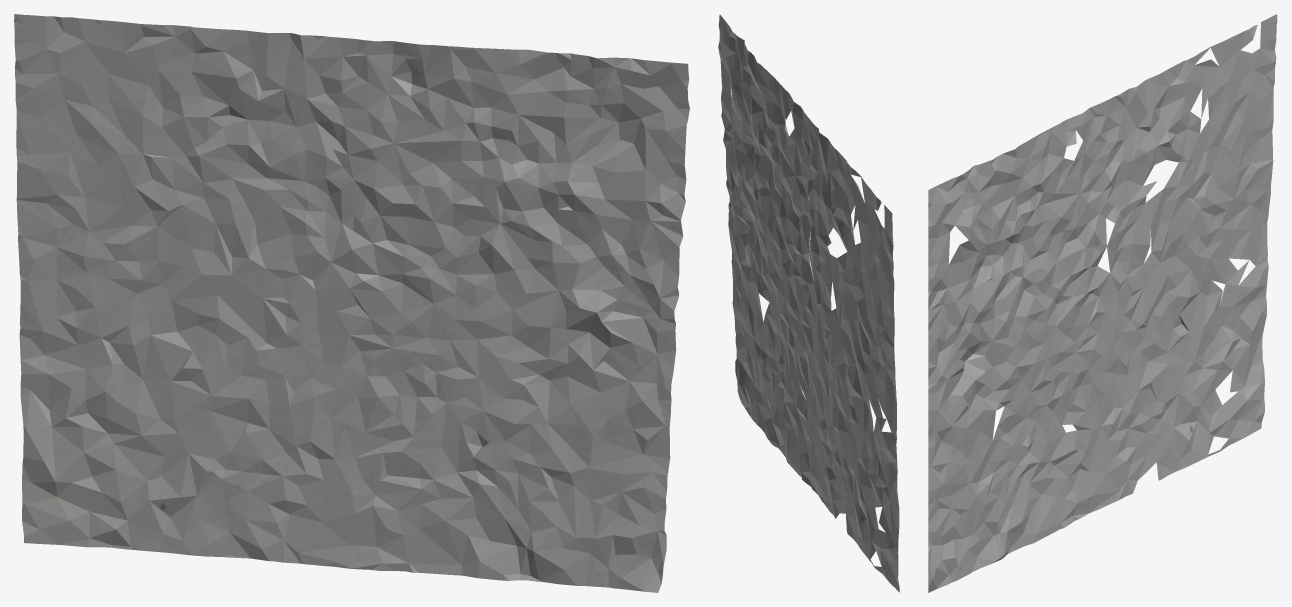
3 renders of one model, left to right at view 1: azimuth 30°, elevation 25°; view 2: azimuth 150°, elevation 25°; view 3: azimuth 270°, elevation 25°, orthographic. The views are drawn at different scales.
Size of the model in its own units: 0.7659 by 0.8374 by 0.639.
Materials: 3 (3 with a texture image).
